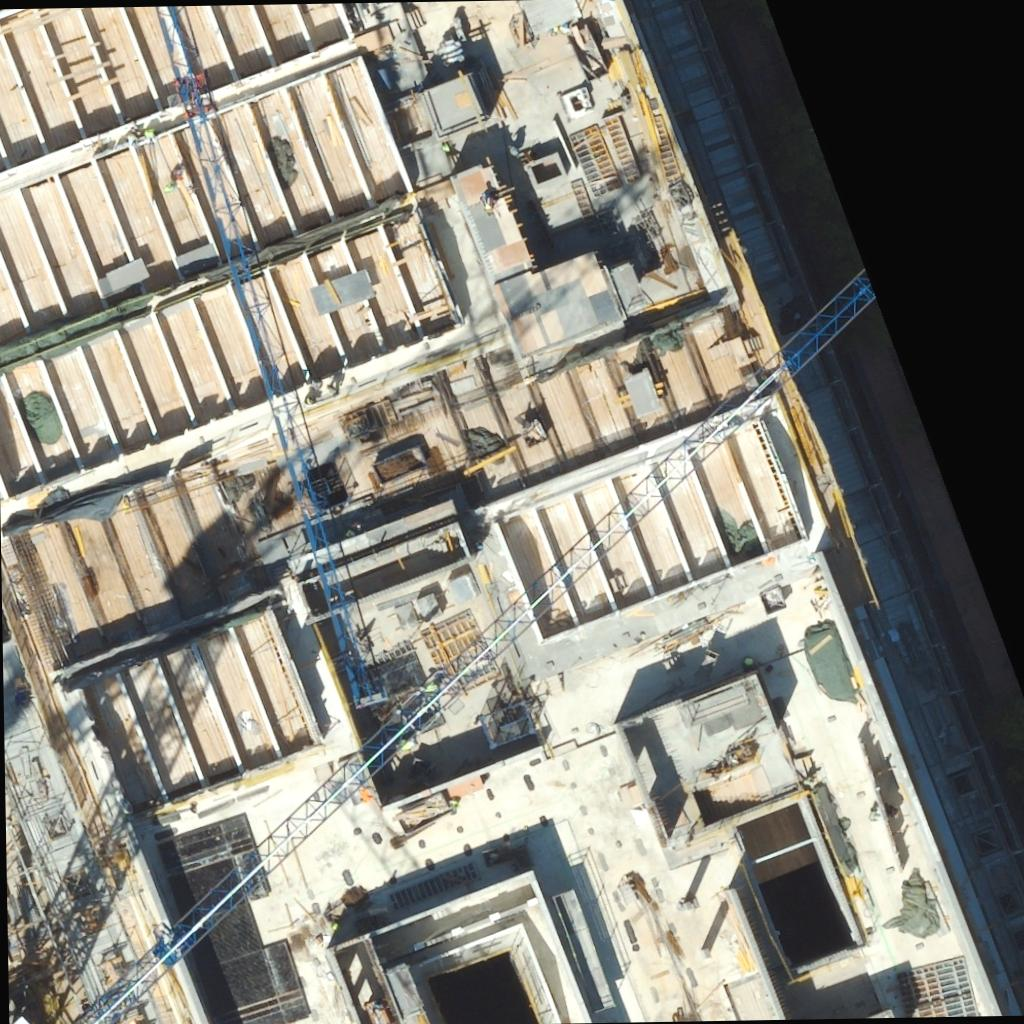samochod_osobowy: (159, 6, 196, 79)
zuraw_wiezowy: (67, 274, 887, 1024), (150, 2, 376, 718)
